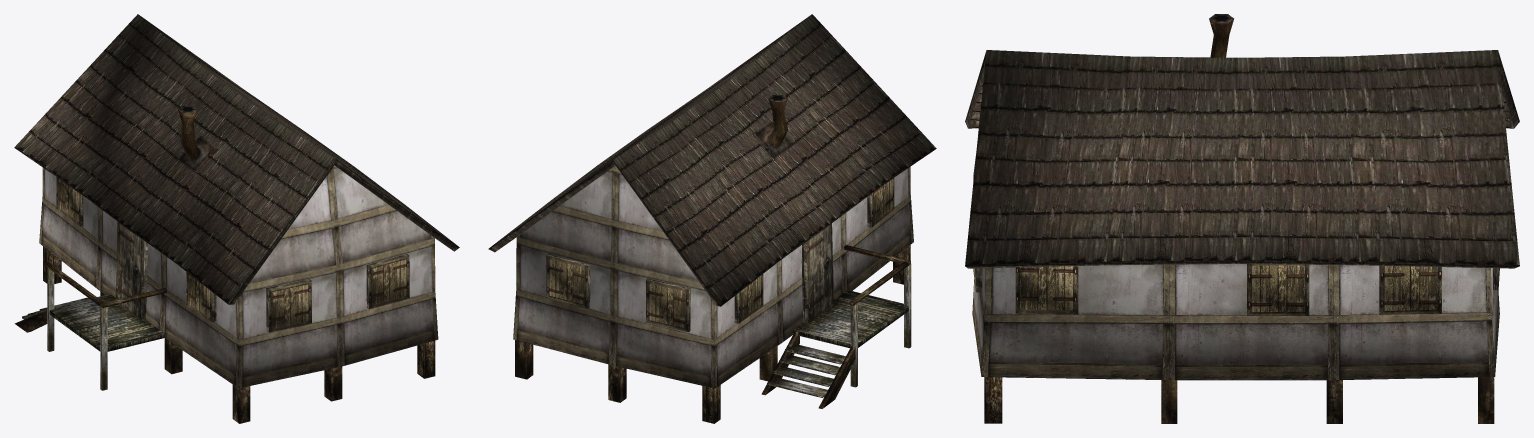
Rendered from house4-02.obj.
3 views of the same model, side by side, from view 1: azimuth 30°, elevation 25°; view 2: azimuth 150°, elevation 25°; view 3: azimuth 270°, elevation 25° (orthographic). The views are drawn at different scales.
Bounding box in the file's own units: 7.38 × 6.03 × 9.73.
1 material, 1 textured.
